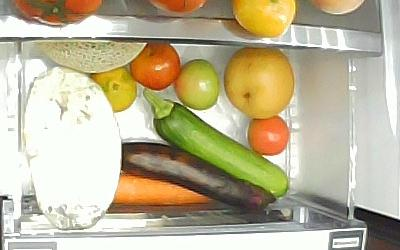cabbage: (22, 66, 121, 230)
carrot: (111, 173, 212, 206)
eggplant: (121, 142, 277, 214)
melon: (36, 40, 146, 74)
pear: (223, 47, 294, 119)
prune: (130, 42, 181, 91)
tangerine: (89, 67, 136, 112)
tomato: (174, 58, 219, 110), (247, 116, 290, 157)
zucchini: (143, 90, 289, 199)
